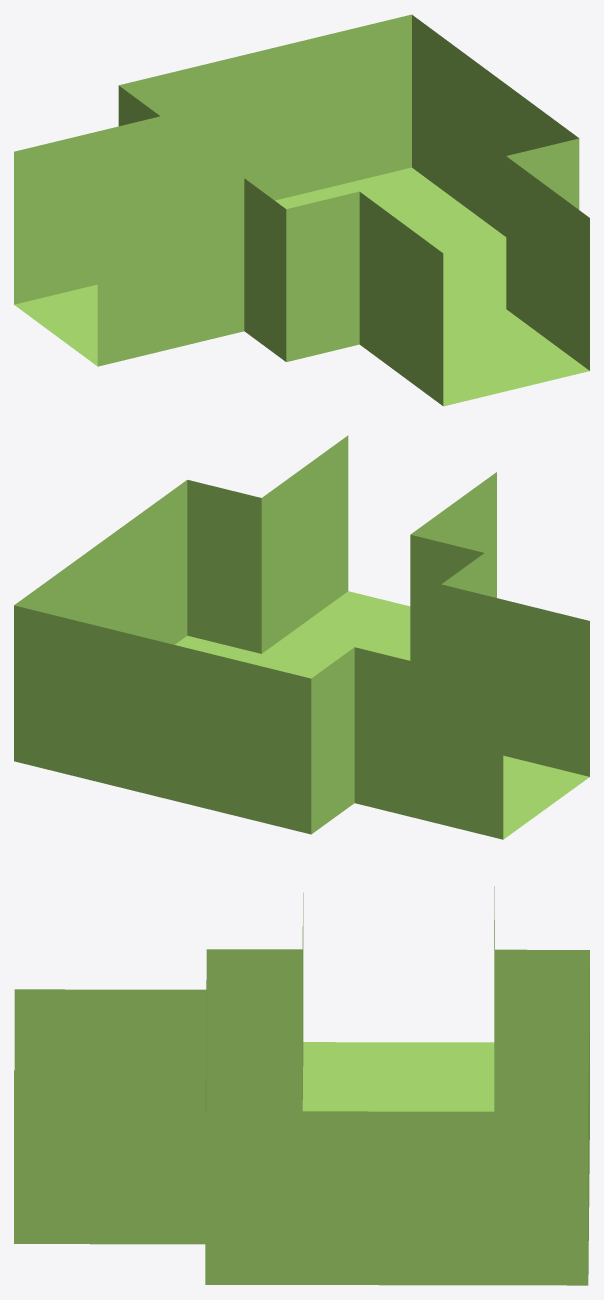
The model's file is L_room_180.glb.
3 renders of one model, top to bottom at view 1: azimuth 30°, elevation 25°; view 2: azimuth 150°, elevation 25°; view 3: azimuth 270°, elevation 25°, orthographic. The views are drawn at different scales.
Parts seen in each view (by area): view 1: L_room_180; view 2: L_room_180; view 3: L_room_180.
Part boxes in pixels (x1,y1,x2,y2): L_room_180: (14, 14, 589, 406); L_room_180: (14, 435, 589, 839); L_room_180: (14, 886, 589, 1285).
Size of the model in its own units: 3.01 by 1 by 3.01.
